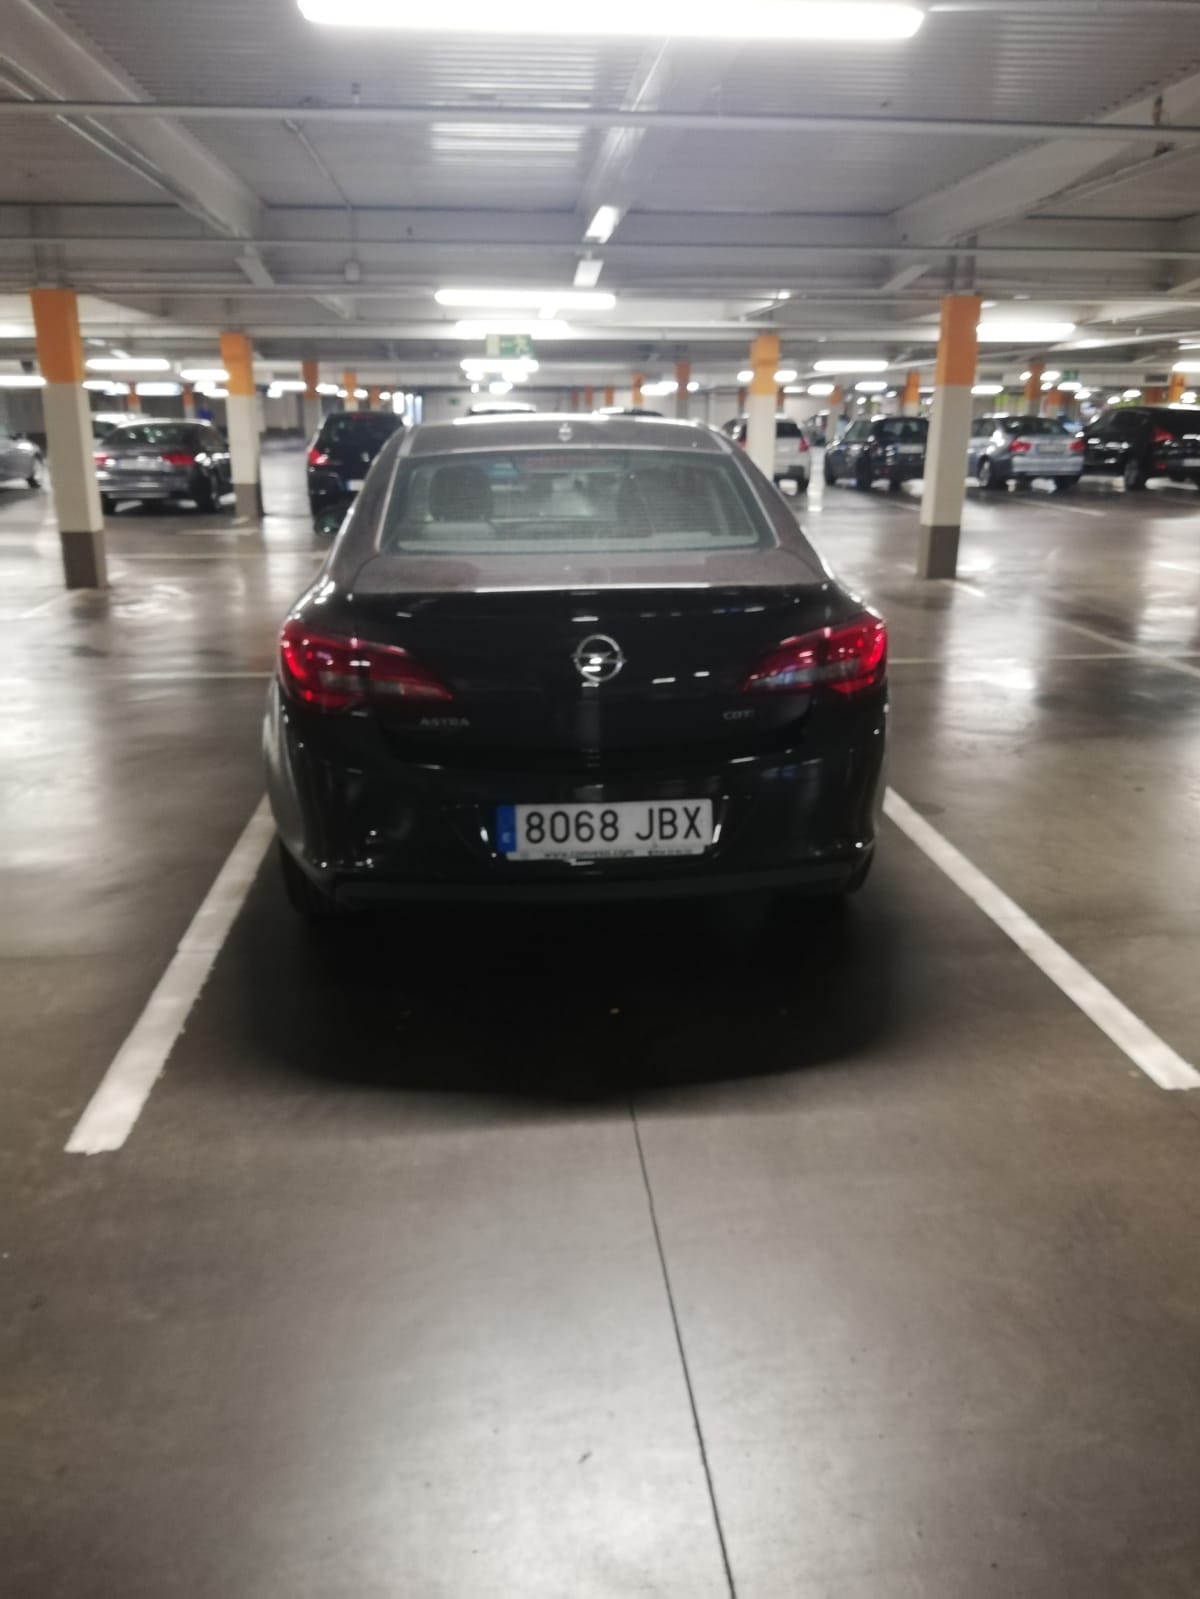Car: (258, 416, 884, 890)
Plate: (493, 804, 711, 860)
